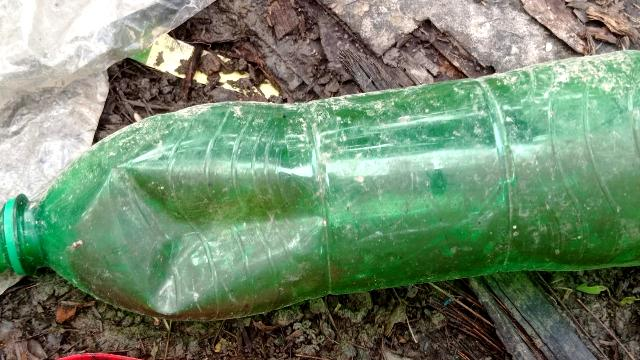bottle: (6, 40, 640, 336)
